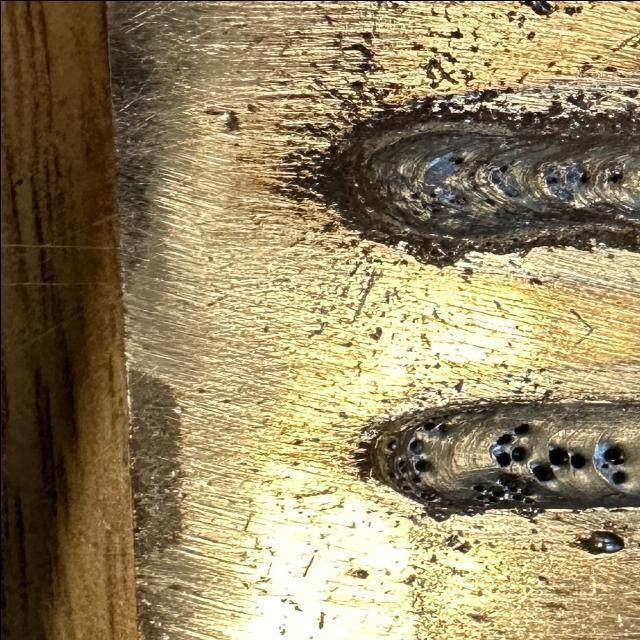Excess Reinforcement: (314, 96, 640, 267)
Porosity: (472, 472, 536, 506), (602, 448, 625, 464), (548, 447, 568, 465), (532, 464, 553, 481), (382, 465, 400, 484), (420, 422, 445, 434), (568, 452, 585, 469), (510, 446, 527, 461), (610, 471, 628, 485), (605, 170, 623, 184), (445, 194, 467, 205), (495, 451, 510, 466), (408, 439, 423, 454), (512, 422, 528, 435), (495, 433, 512, 445), (413, 459, 430, 471), (418, 492, 437, 502), (448, 156, 463, 165), (385, 439, 397, 450), (490, 174, 502, 185), (505, 188, 518, 198), (545, 176, 558, 185), (410, 209, 423, 218), (578, 171, 588, 182), (427, 190, 438, 200), (483, 198, 495, 206), (408, 192, 420, 200), (420, 202, 433, 209), (397, 461, 406, 471), (466, 170, 477, 178), (410, 475, 420, 482), (497, 166, 508, 172), (598, 463, 608, 469), (430, 208, 440, 214), (402, 485, 410, 490)
Spatters: (572, 530, 623, 554), (523, 0, 553, 15), (425, 509, 450, 521), (355, 569, 368, 579)
